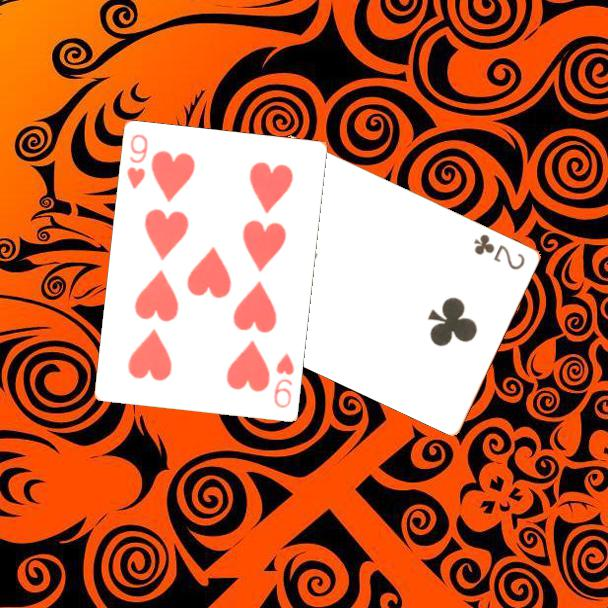c02: (470, 230, 528, 273)
h09: (124, 131, 151, 192), (271, 350, 297, 411)
